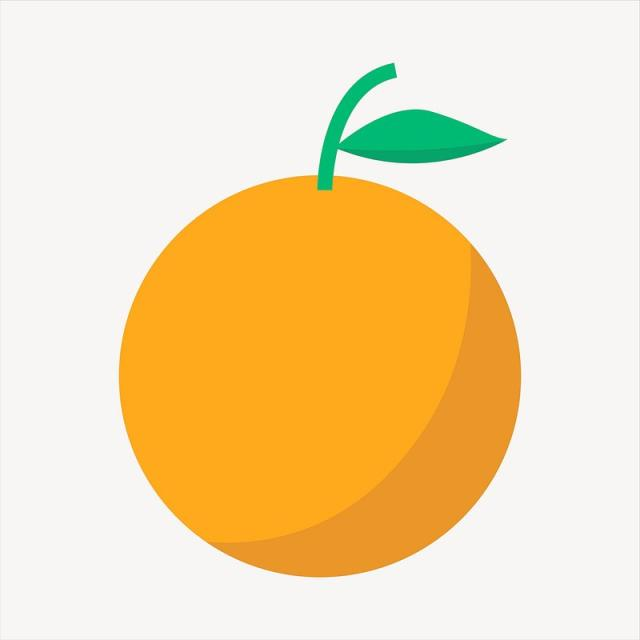orange: (112, 61, 538, 578)
